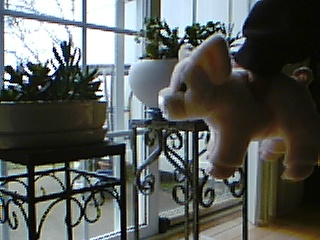piggy: (156, 33, 320, 184)
